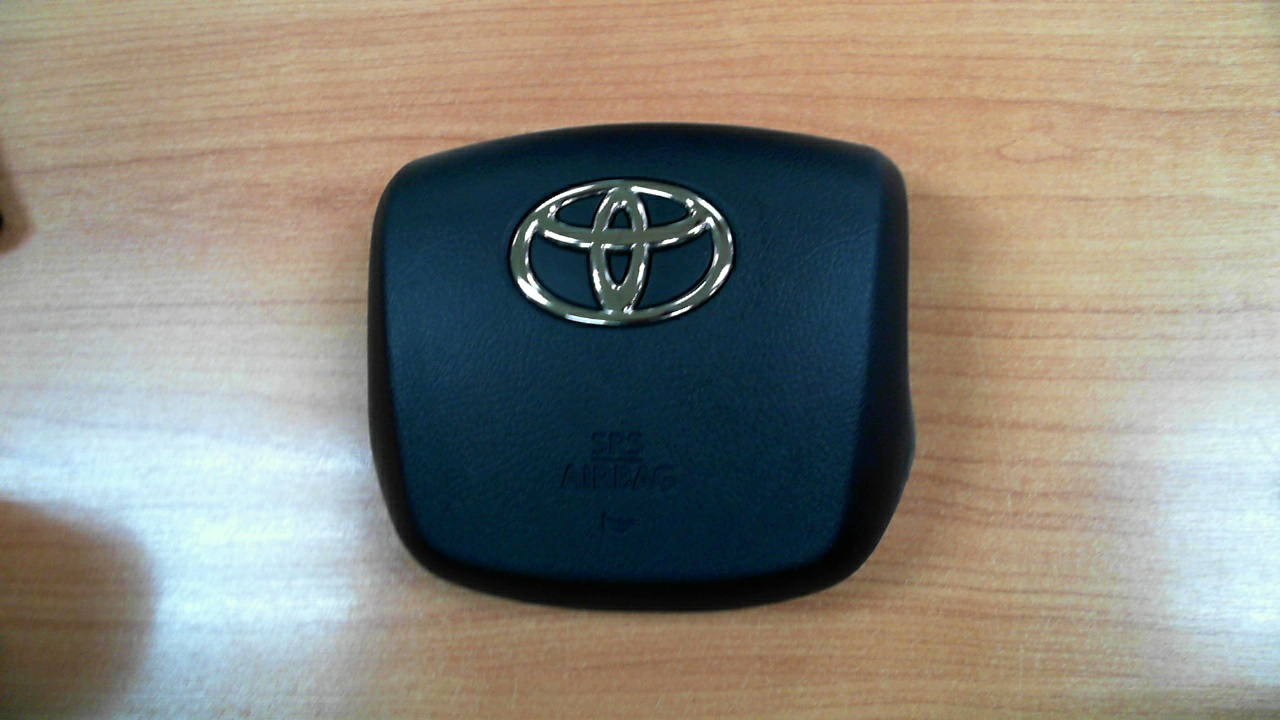Airbag: (327, 93, 953, 626)
